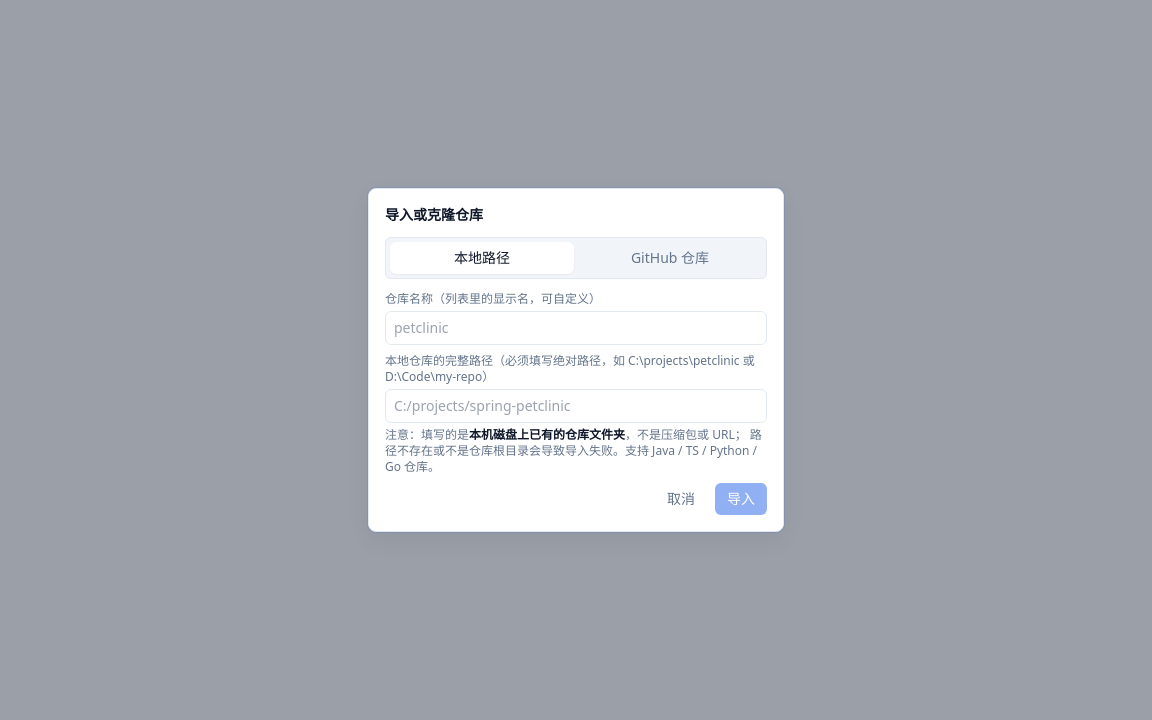
ImportRepoModal — repository ingestion hub (Issue 19) › surfaces a preview failure without blocking the local import flow
This screenshot has width=1152, height=720.
Type "demo" into the field with test id "import-name".
click(576, 328); type("demo")  # box [385,311,767,345]
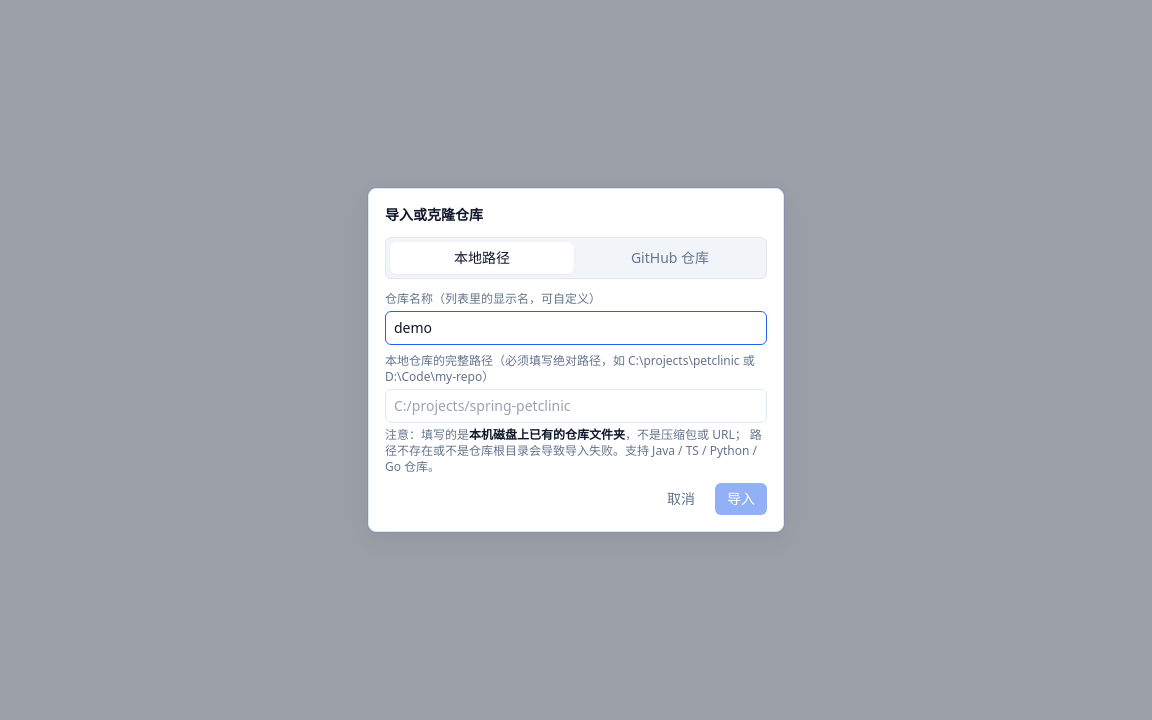
Type "C:/nope" into the field with test id "import-path".
click(576, 406); type("C:/nope")  # box [385,389,767,423]
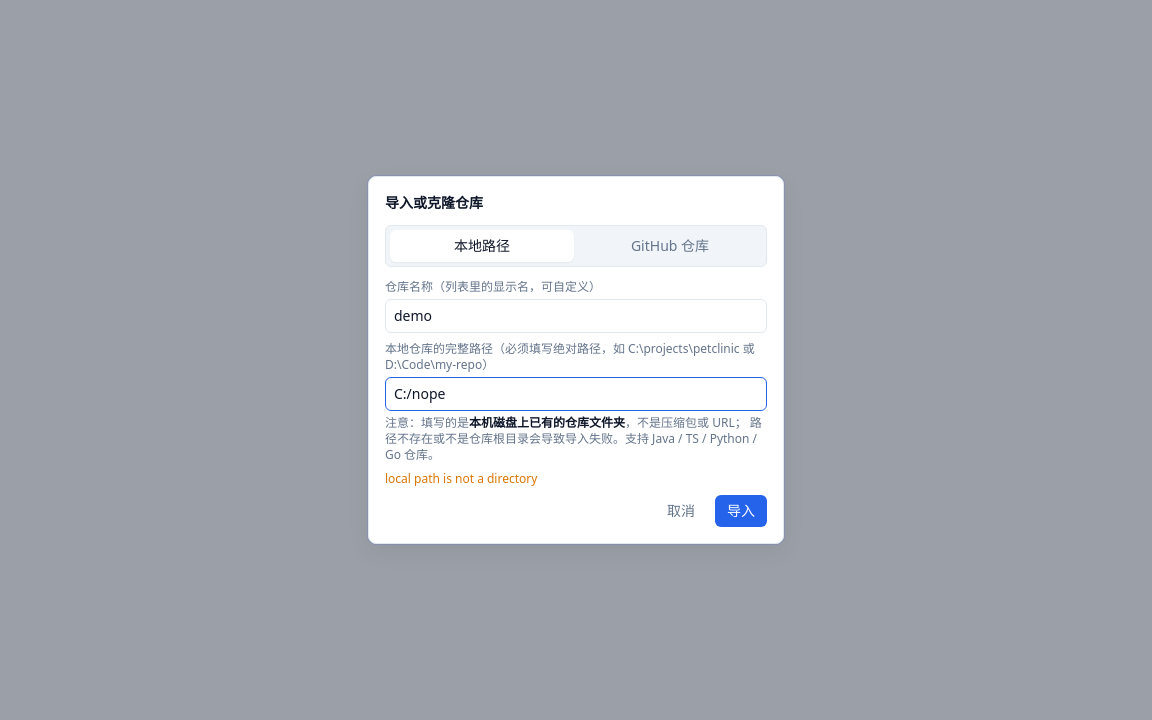
Expected: the text with test id "import-preview-error" reads "local path is not a directory", [385,470,537,487]
Expected: the button with test id "import-submit" is enabled, [715,495,767,527]
